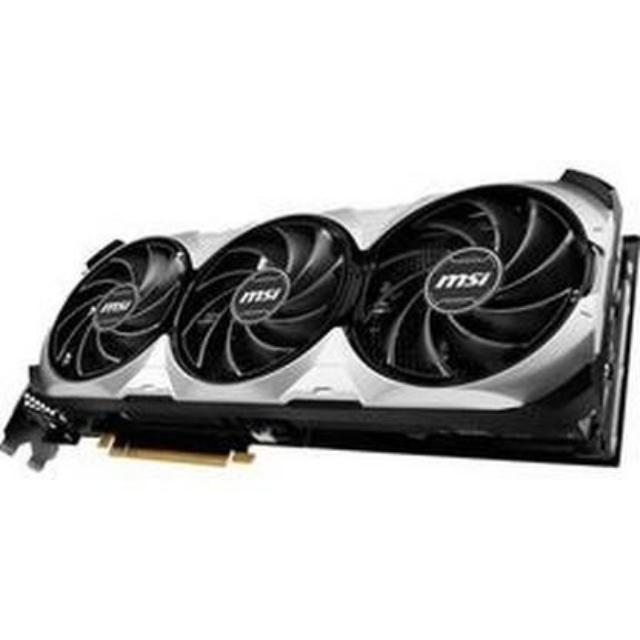GPU: (11, 167, 636, 484)
